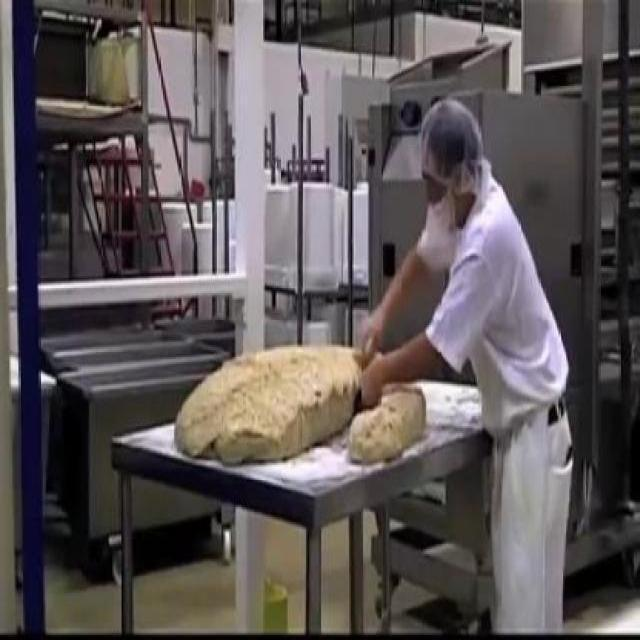bare_hand: (348, 312, 388, 413)
